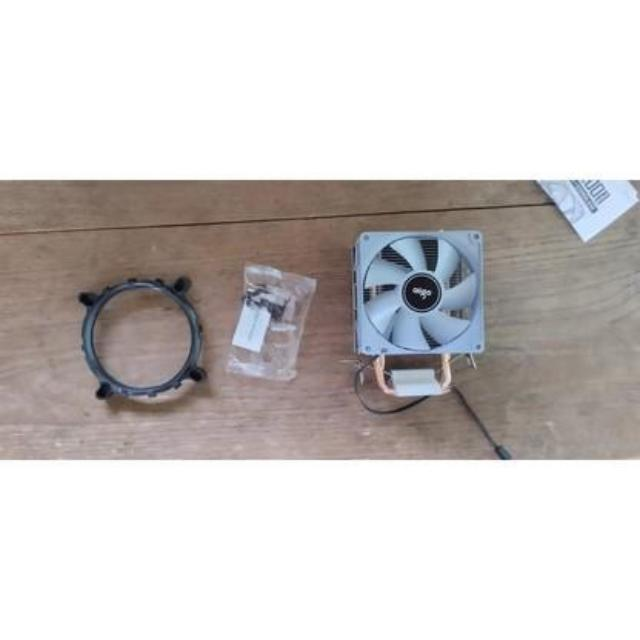CPU_Fan: (348, 222, 492, 418)
